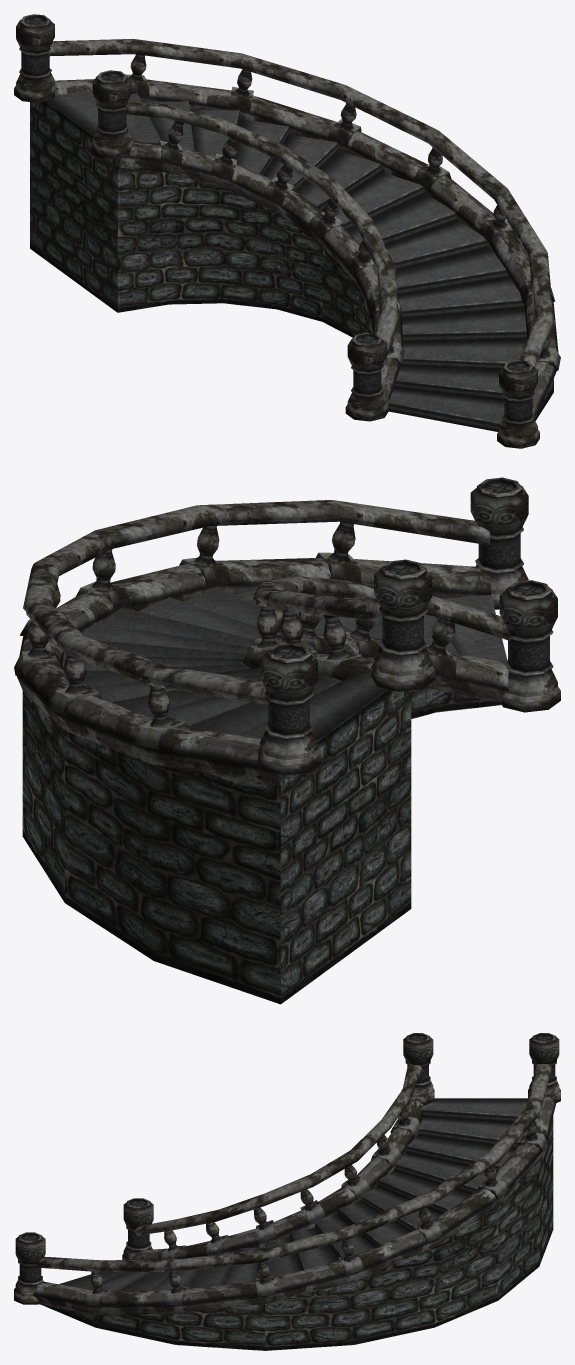
The model's file is round_solid_right.dae.
The picture shows the model from 3 angles, top to bottom: view 1: azimuth 30°, elevation 25°; view 2: azimuth 150°, elevation 25°; view 3: azimuth 270°, elevation 25°; orthographic projection. The views are drawn at different scales.
Visible parts, largest first — view 1: polySurface111, polySurface42, polySurface75, polySurface110; view 2: polySurface42, polySurface111, polySurface110, polySurface75; view 3: polySurface111, polySurface42, polySurface75, polySurface110.
Boxes of the visible parts, <box> form: polySurface111: <box>38,39,560,419</box>; polySurface42: <box>30,101,553,420</box>; polySurface75: <box>46,89,527,431</box>; polySurface110: <box>14,14,539,448</box>; polySurface42: <box>22,687,501,1004</box>; polySurface111: <box>14,500,510,785</box>; polySurface110: <box>257,477,560,775</box>; polySurface75: <box>62,587,507,741</box>; polySurface111: <box>33,1063,556,1314</box>; polySurface42: <box>42,1116,553,1350</box>; polySurface75: <box>59,1098,527,1291</box>; polySurface110: <box>14,1033,560,1304</box>.
Size of what is drawn, in the model's own units: 8.59 by 5.93 by 15.17.
